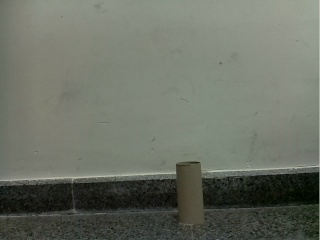rollo papel: (175, 162, 206, 225)
